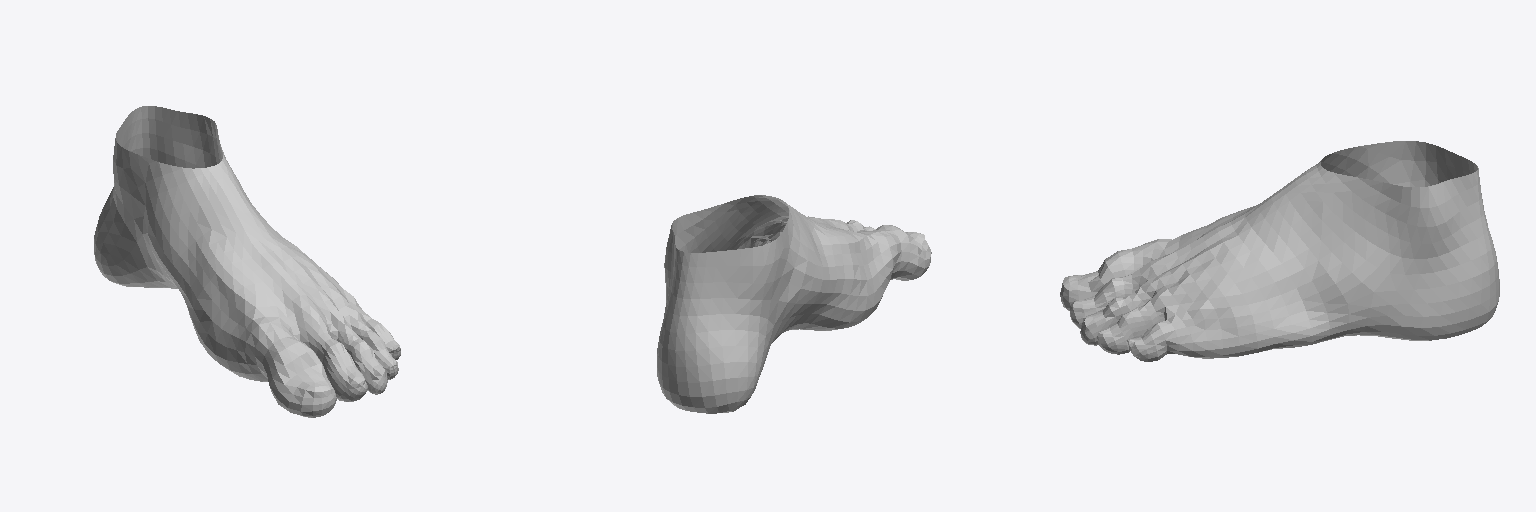
Rendered from talpaS.obj.
The picture shows the model from 3 angles: view 1: azimuth 30°, elevation 25°; view 2: azimuth 150°, elevation 25°; view 3: azimuth 270°, elevation 25°; orthographic projection.
Parts seen in each view (by area): view 1: talpaS; view 2: talpaS; view 3: talpaS.
Part boxes in pixels (x1,y1,x2,y2): talpaS: (94,106,400,417); talpaS: (657,195,931,413); talpaS: (1060,141,1499,361).
Size of the model in its own units: 1.31 by 1.36 by 3.36.